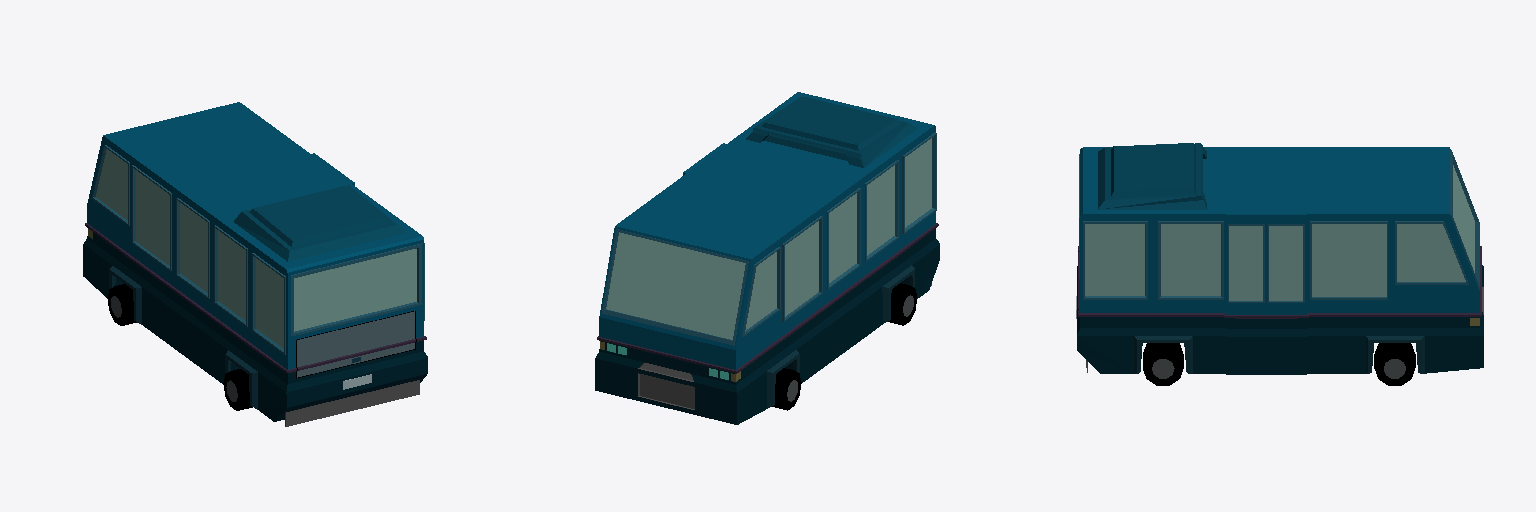
The picture shows the model from 3 angles: view 1: azimuth 30°, elevation 25°; view 2: azimuth 150°, elevation 25°; view 3: azimuth 270°, elevation 25°; orthographic projection.
Parts seen in each view (by area): view 1: DolmusFull_Cube.012; view 2: DolmusFull_Cube.012; view 3: DolmusFull_Cube.012.
Part boxes in pixels (x1,y1,x2,y2): DolmusFull_Cube.012: (83, 102, 427, 426); DolmusFull_Cube.012: (595, 92, 939, 424); DolmusFull_Cube.012: (1076, 143, 1483, 385).
Size of the model in its own units: 2.19 by 2.31 by 4.7.
Materials: 1 (1 with a texture image).